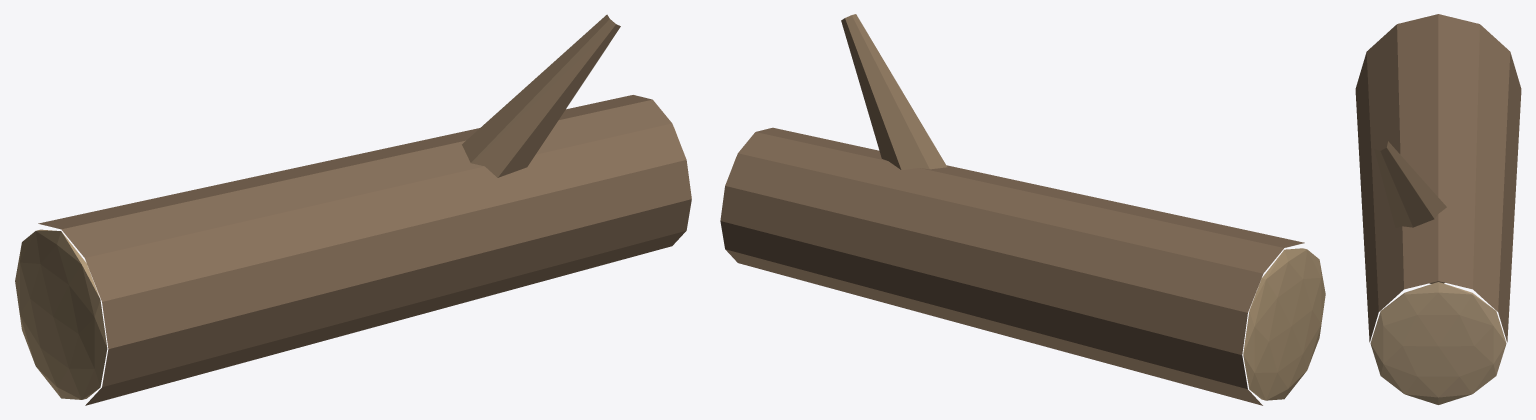
Rendered from log-03.glb.
3 renders of one model, left to right at view 1: azimuth 30°, elevation 25°; view 2: azimuth 150°, elevation 25°; view 3: azimuth 270°, elevation 25°, orthographic. The views are drawn at different scales.
Parts seen in each view (by area): view 1: part_000; view 2: part_000; view 3: part_000.
Boxes of the visible parts, x1,y1,x2,y2 form: part_000: (15, 14, 691, 405); part_000: (720, 14, 1325, 405); part_000: (1355, 14, 1521, 404).
Bounding box in the file's own units: 1.49 × 0.6627 × 0.4.
